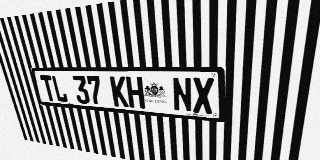3: (72, 76, 90, 104)
7: (85, 76, 104, 105)
H: (125, 76, 145, 109)
K: (110, 76, 129, 107)
L: (51, 75, 68, 103)
N: (172, 77, 192, 112)
T: (40, 75, 57, 102)
X: (192, 77, 214, 114)
